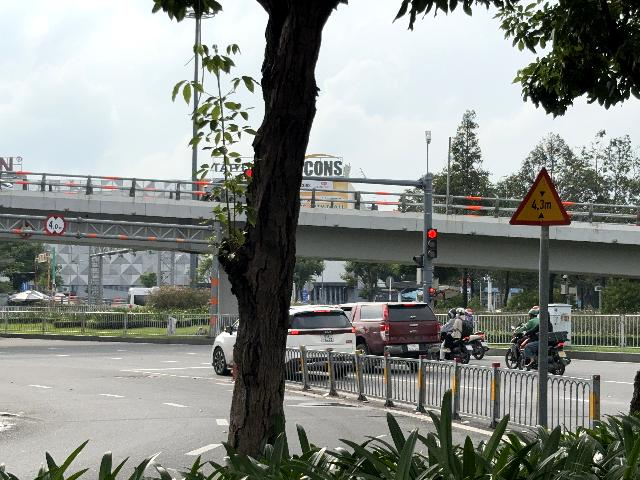chieu-cao-tinh-khong-thuc-te: (509, 167, 571, 226)
